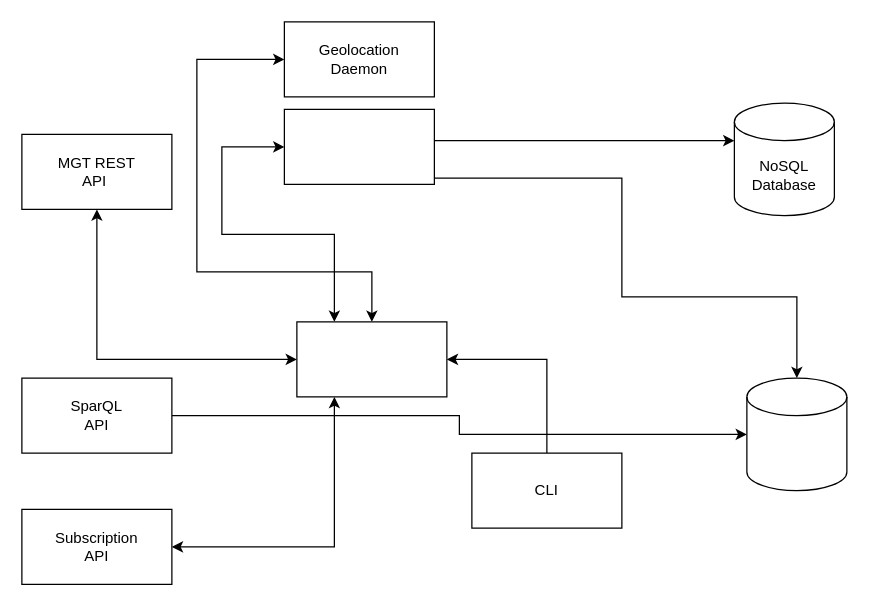
This 869x606 diagram has some shape labels left out. Each missing label, with the box of its shape:
AMQP: (296, 321, 447, 397)
Graph Database: (746, 377, 847, 491)
Sync Daemon: (283, 108, 434, 184)
